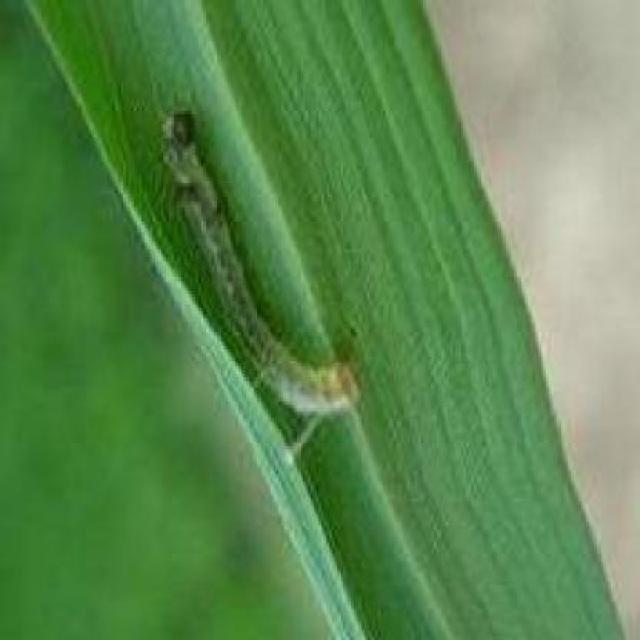leaf-folder: (153, 94, 375, 466)
